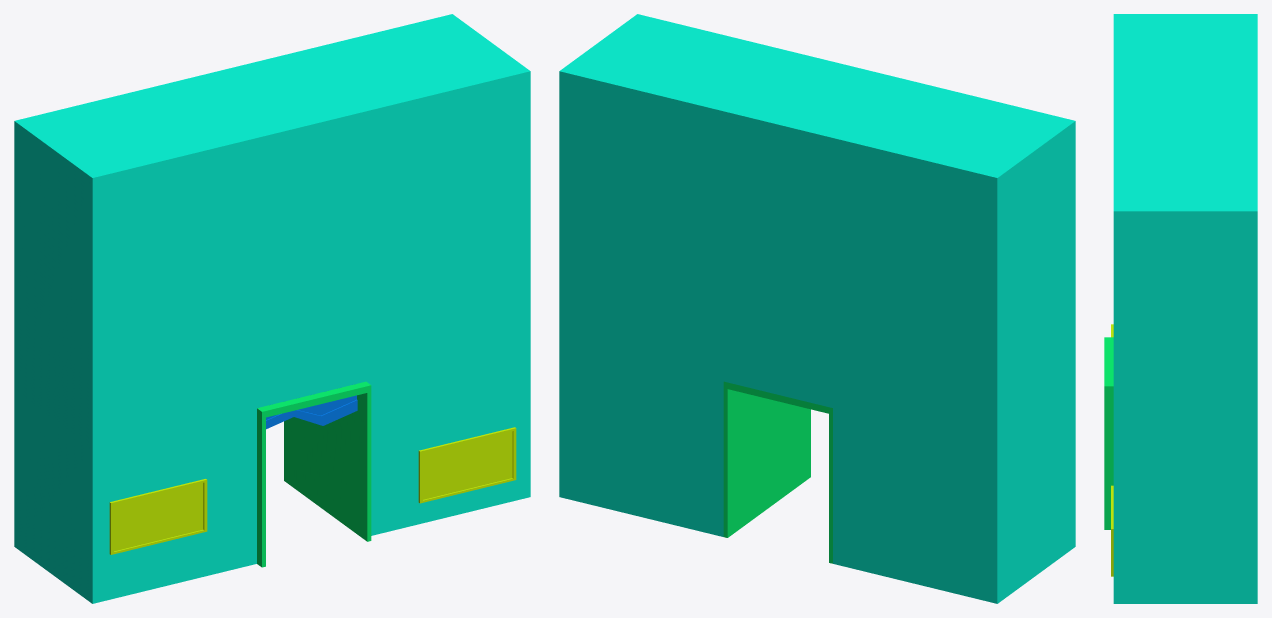
The model's file is HallDoorVariation1.fbx.
The picture shows the model from 3 angles, left to right: view 1: azimuth 30°, elevation 25°; view 2: azimuth 150°, elevation 25°; view 3: azimuth 270°, elevation 25°; orthographic projection. The views are drawn at different scales.
Visible parts, largest first — view 1: Wall, DoorFrame, Billboard (×2), DoorTopHalf; view 2: Wall, DoorFrame; view 3: Wall, DoorFrame, Billboard.
Part boxes in pixels (x1,y1,x2,y2): Wall: (14, 14, 530, 603); DoorFrame: (257, 381, 371, 567); Billboard (×2): (109, 427, 516, 554); DoorTopHalf: (266, 395, 357, 429); Wall: (559, 14, 1075, 603); DoorFrame: (723, 381, 832, 563); Wall: (1113, 14, 1257, 603); DoorFrame: (1104, 337, 1113, 529); Billboard: (1111, 485, 1113, 576).
Bounding box in the file's own units: 100 × 92.87 × 32.91.
